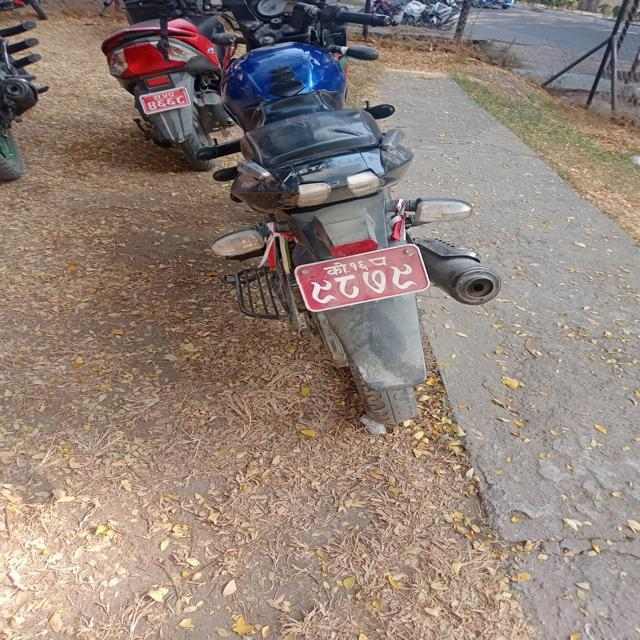license_plate: (273, 228, 443, 321)
